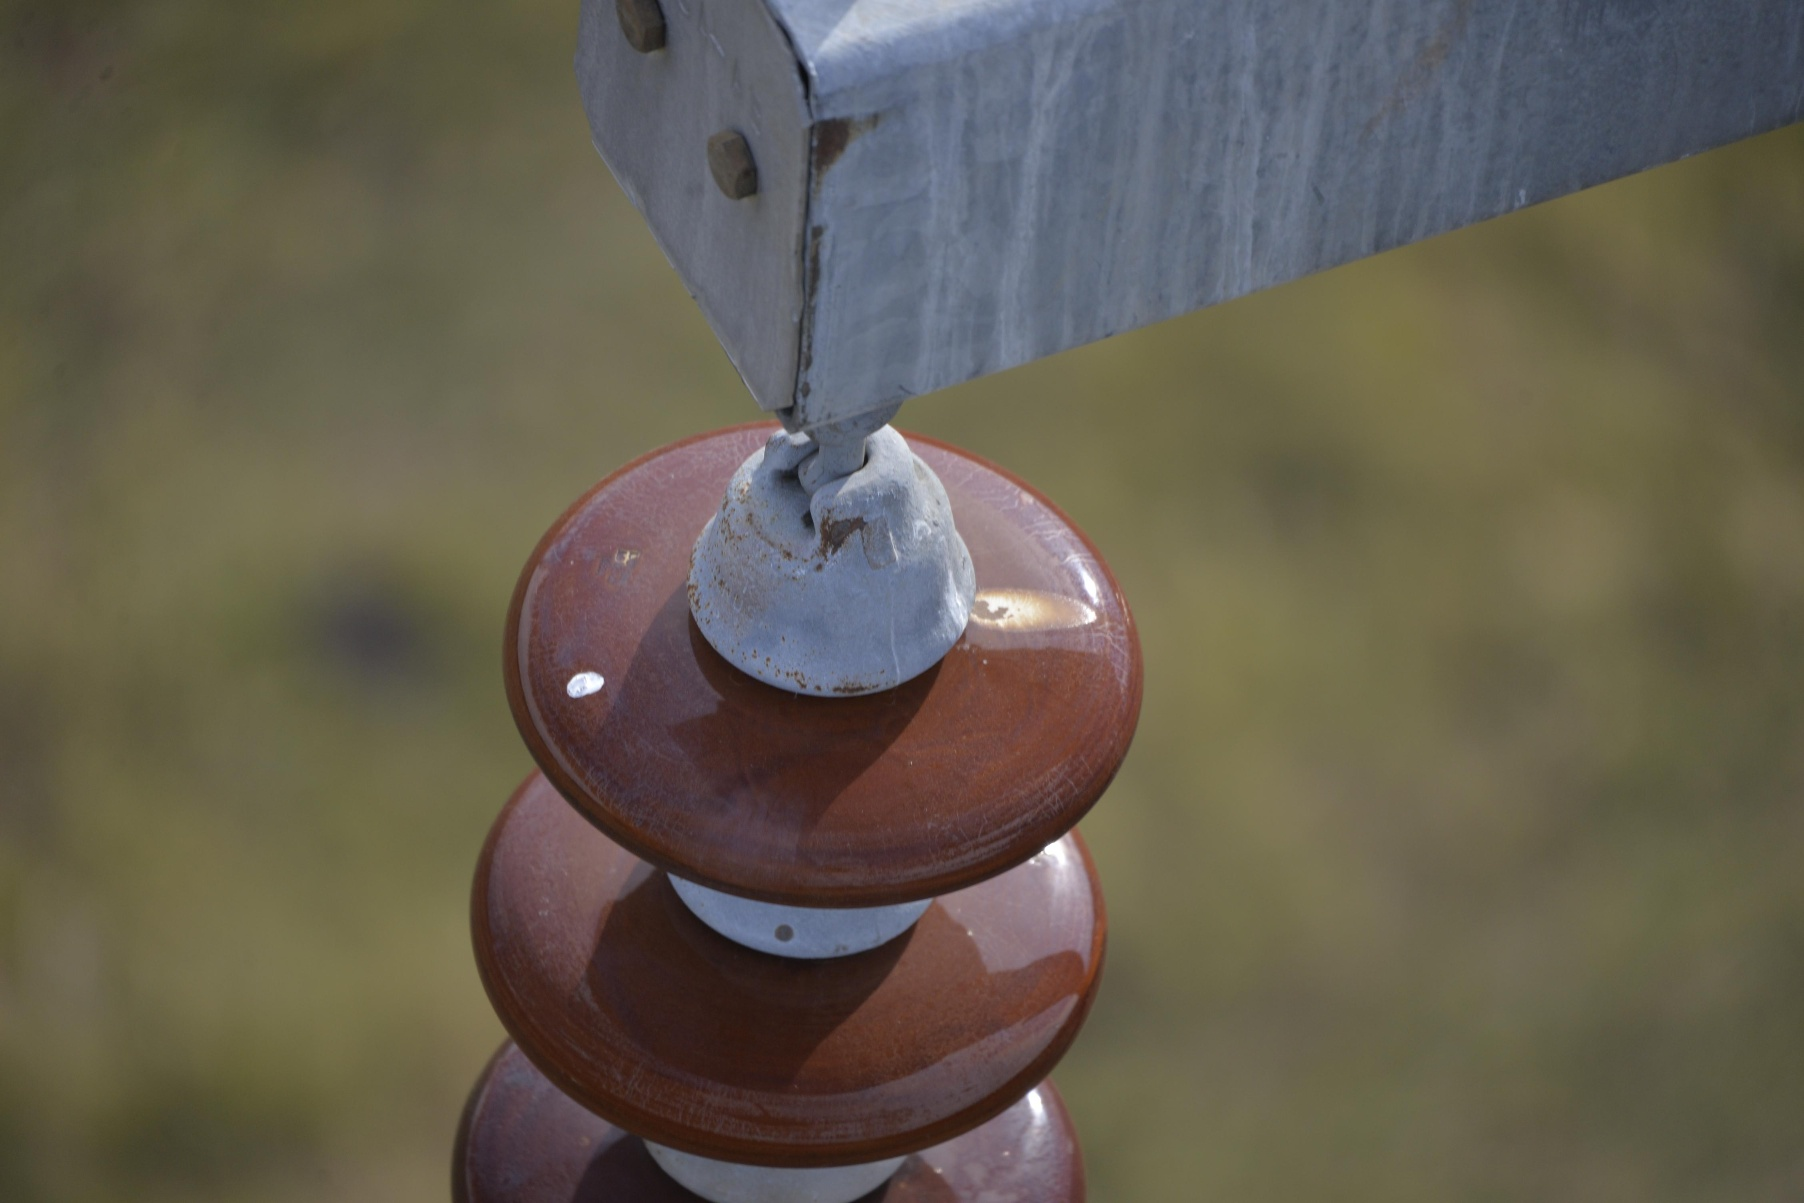defective_insulator: (444, 414, 1154, 1202)
